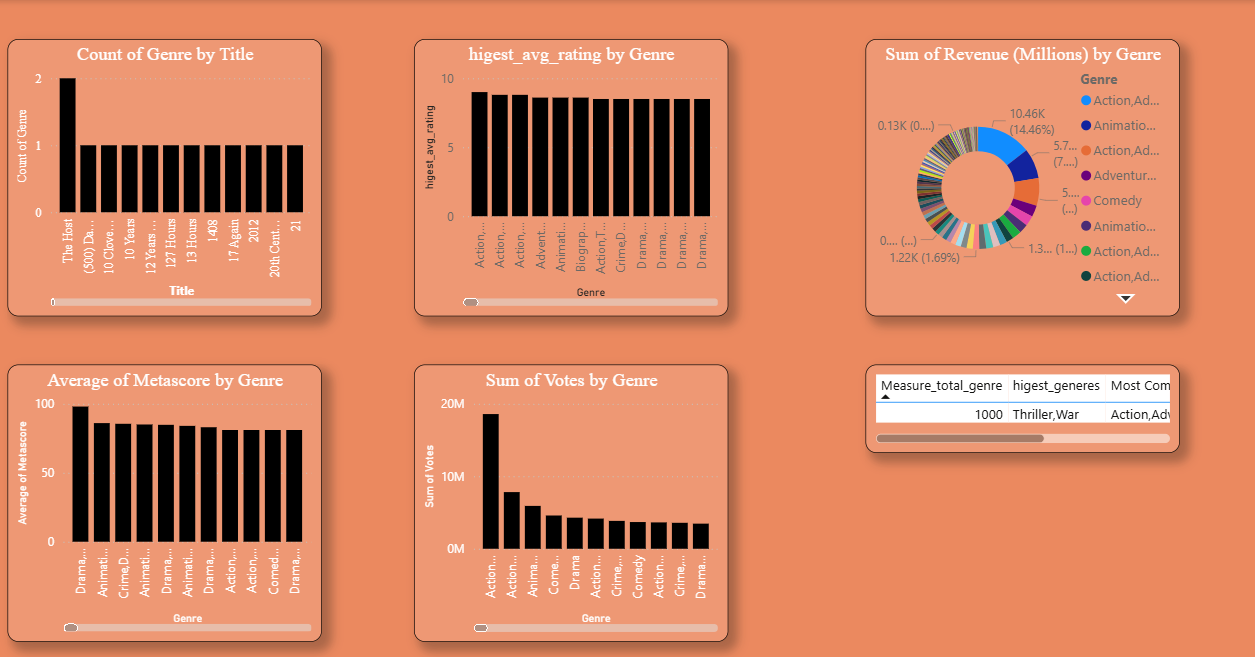

The page's visual inventory and layout, read from the dashboard file:
{"tool":"powerbi","page":{"name":"Page 3","canvas":[1280,720],"ordinal":2},"visuals":[{"type":"columnChart","fields":{"Category":["IMDB-Movie-Data.Title"],"Y":["CountNonNull(IMDB-Movie-Data.Genre)"]},"box":[16.9,39.8,317.3,279.9],"z":0},{"type":"clusteredColumnChart","fields":{"Category":["IMDB-Movie-Data.Genre"],"Y":["IMDB-Movie-Data.higest_avg_rating"]},"box":[427.1,39.8,317.3,279.9],"z":1000},{"type":"donutChart","fields":{"Y":["Sum(IMDB-Movie-Data.Revenue (Millions))"],"Category":["IMDB-Movie-Data.Genre"]},"box":[883.1,39.8,317.3,279.9],"z":2000},{"type":"lineClusteredColumnComboChart","fields":{"Y":["Avg(IMDB-Movie-Data.Metascore)"],"Category":["IMDB-Movie-Data.Genre"]},"box":[16.9,368,317.3,279.9],"z":3000},{"type":"clusteredColumnChart","fields":{"Y":["Sum(IMDB-Movie-Data.Votes)"],"Category":["IMDB-Movie-Data.Genre"]},"box":[427,368,317,280],"z":4000},{"type":"tableEx","fields":{"Values":["IMDB-Movie-Data.Measure_total_genre","IMDB-Movie-Data.higest_generes","IMDB-Movie-Data.Most Common Genre","Avg(IMDB-Movie-Data.Metascore)"]},"box":[882.9,368.5,317.7,89.4],"z":5000}]}

Visuals, with their boxes on the page's 1280x720 design canvas (x1, y1, x2, y2). These are canvas units, not pixel positions in the 1255x657 screenshot, which may show the page scaled, cropped or inside an application window:
columnChart - IMDB-Movie-Data.Title x CountNonNull(IMDB-Movie-Data.Genre): region(17, 40, 334, 320)
clusteredColumnChart - IMDB-Movie-Data.Genre x IMDB-Movie-Data.higest_avg_rating: region(427, 40, 744, 320)
donutChart - Sum(IMDB-Movie-Data.Revenue (Millions)) x IMDB-Movie-Data.Genre: region(883, 40, 1200, 320)
lineClusteredColumnComboChart - Avg(IMDB-Movie-Data.Metascore) x IMDB-Movie-Data.Genre: region(17, 368, 334, 648)
clusteredColumnChart - Sum(IMDB-Movie-Data.Votes) x IMDB-Movie-Data.Genre: region(427, 368, 744, 648)
tableEx - IMDB-Movie-Data.Measure_total_genre x IMDB-Movie-Data.higest_generes: region(883, 368, 1201, 458)
